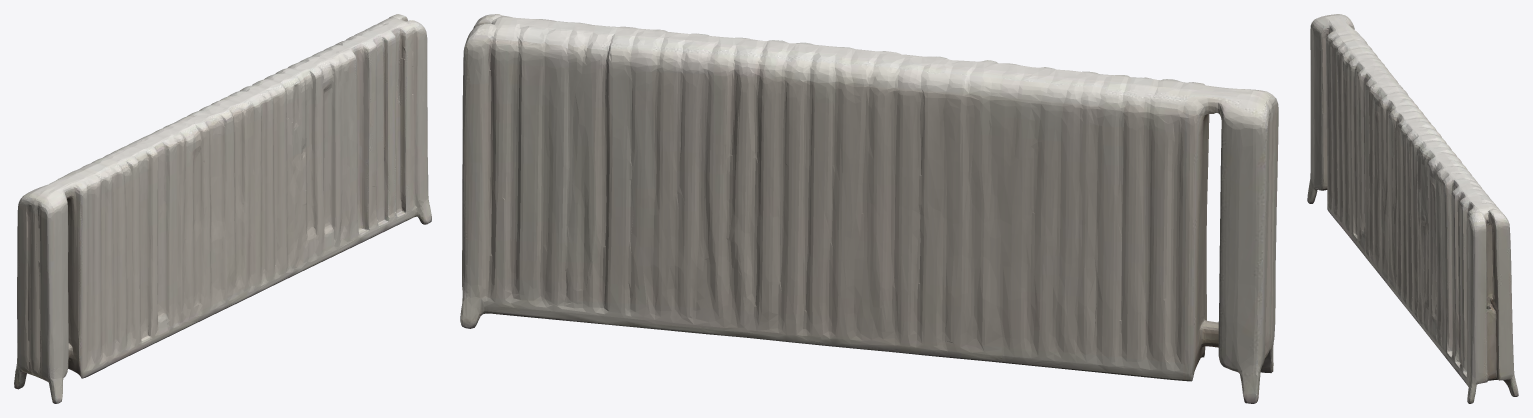
The model's file is white_radiator_under_middle_window_000.glb.
The picture shows the model from 3 angles, left to right: view 1: azimuth 30°, elevation 25°; view 2: azimuth 150°, elevation 25°; view 3: azimuth 270°, elevation 25°; orthographic projection. The views are drawn at different scales.
Parts seen in each view (by area): view 1: phase2_final_white_radiator_under_middle_window_000.obj; view 2: phase2_final_white_radiator_under_middle_window_000.obj; view 3: phase2_final_white_radiator_under_middle_window_000.obj.
Boxes of the visible parts, box(x1,y1,x2,y2) form: phase2_final_white_radiator_under_middle_window_000.obj: box(14, 14, 431, 403); phase2_final_white_radiator_under_middle_window_000.obj: box(460, 14, 1278, 403); phase2_final_white_radiator_under_middle_window_000.obj: box(1307, 14, 1518, 403).
Size of the model in its own units: 0.5013 by 0.2061 by 0.2074.
Materials: 1 (1 with a texture image).
